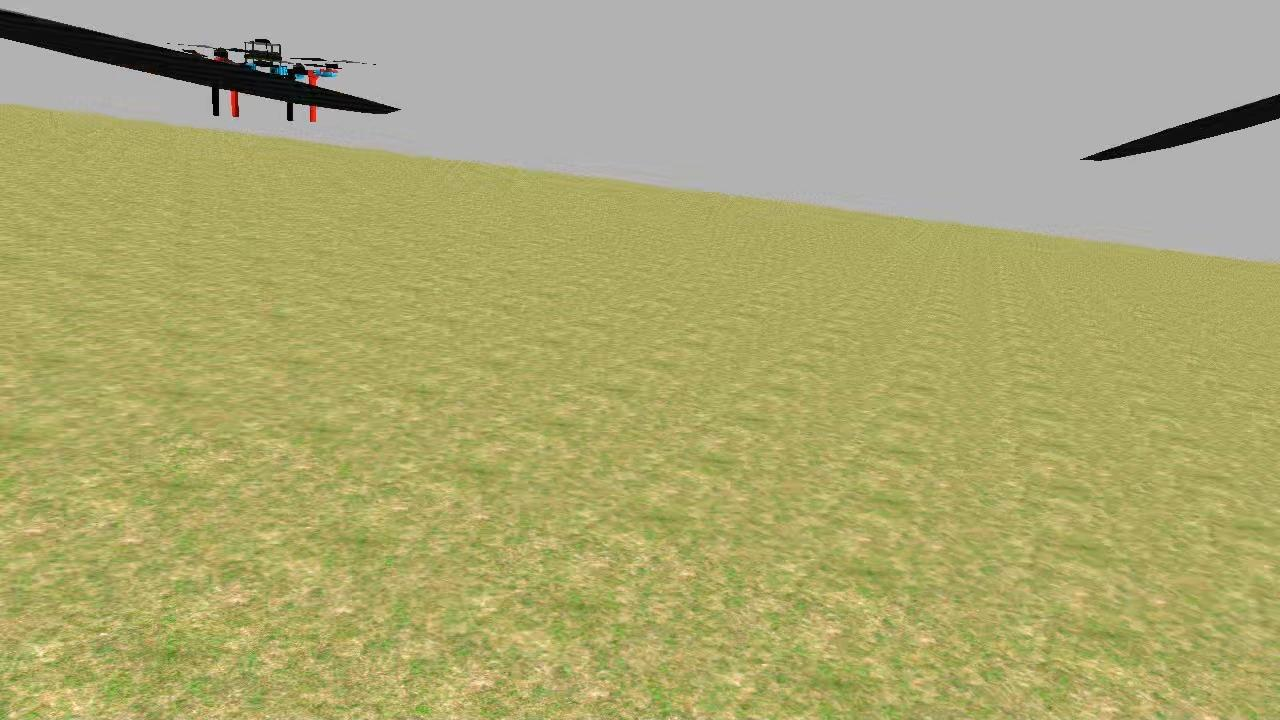UAV: (176, 28, 350, 132)
